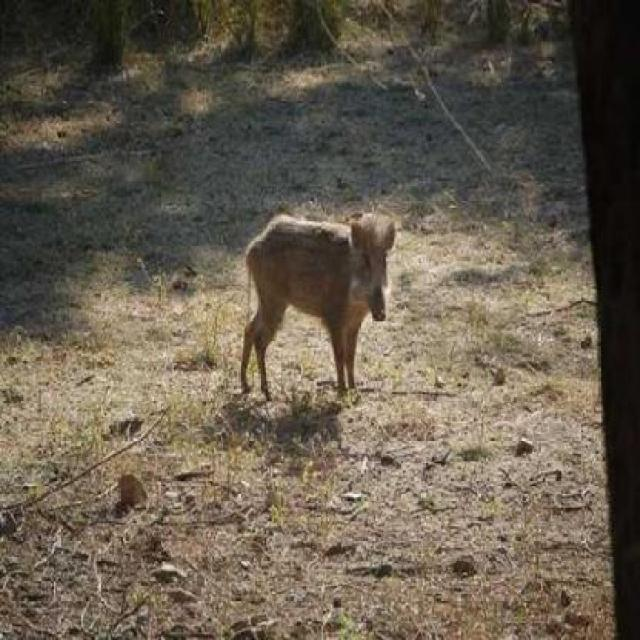pig: (228, 172, 445, 417)
